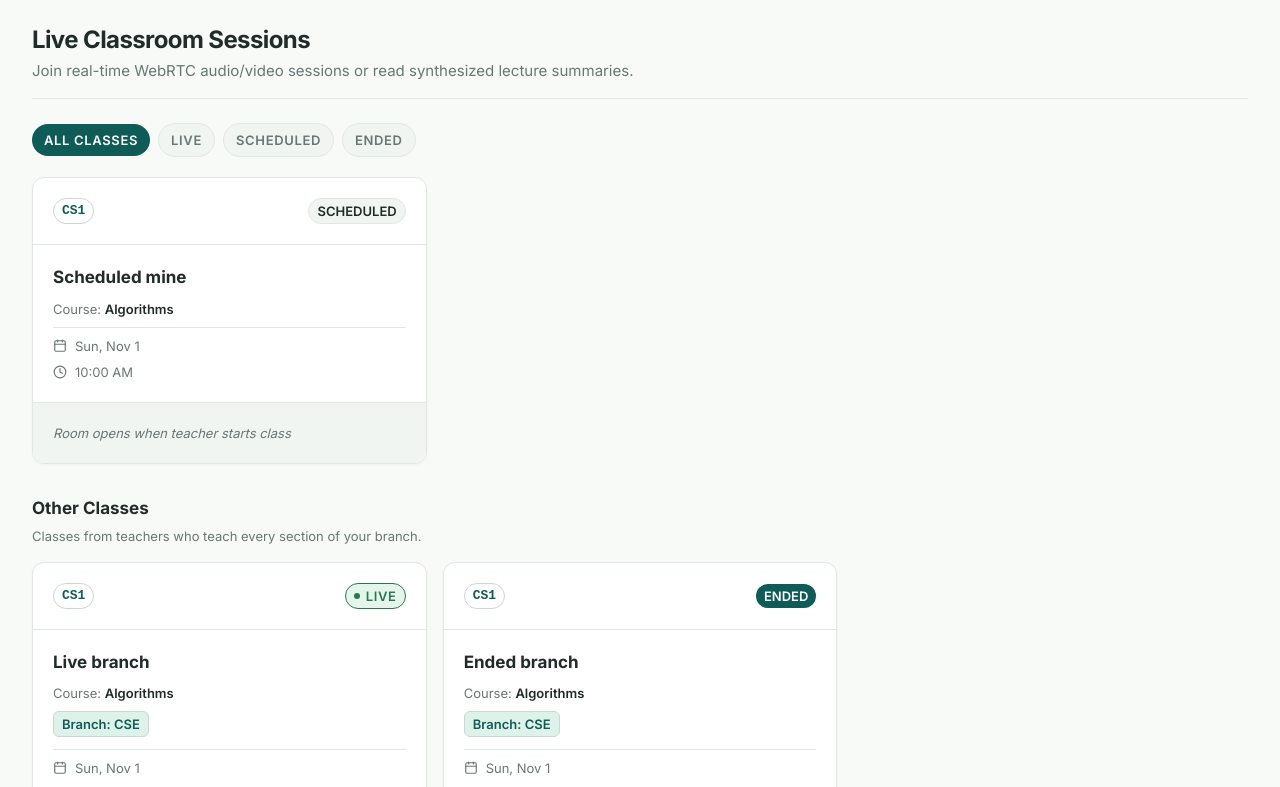
it: student classes: Other Classes › status filters apply to both areas
Expected: the heading "Live branch" is shown, [53,652,150,672]
Click the button "live" at point(187, 140), box [158,123,215,157]
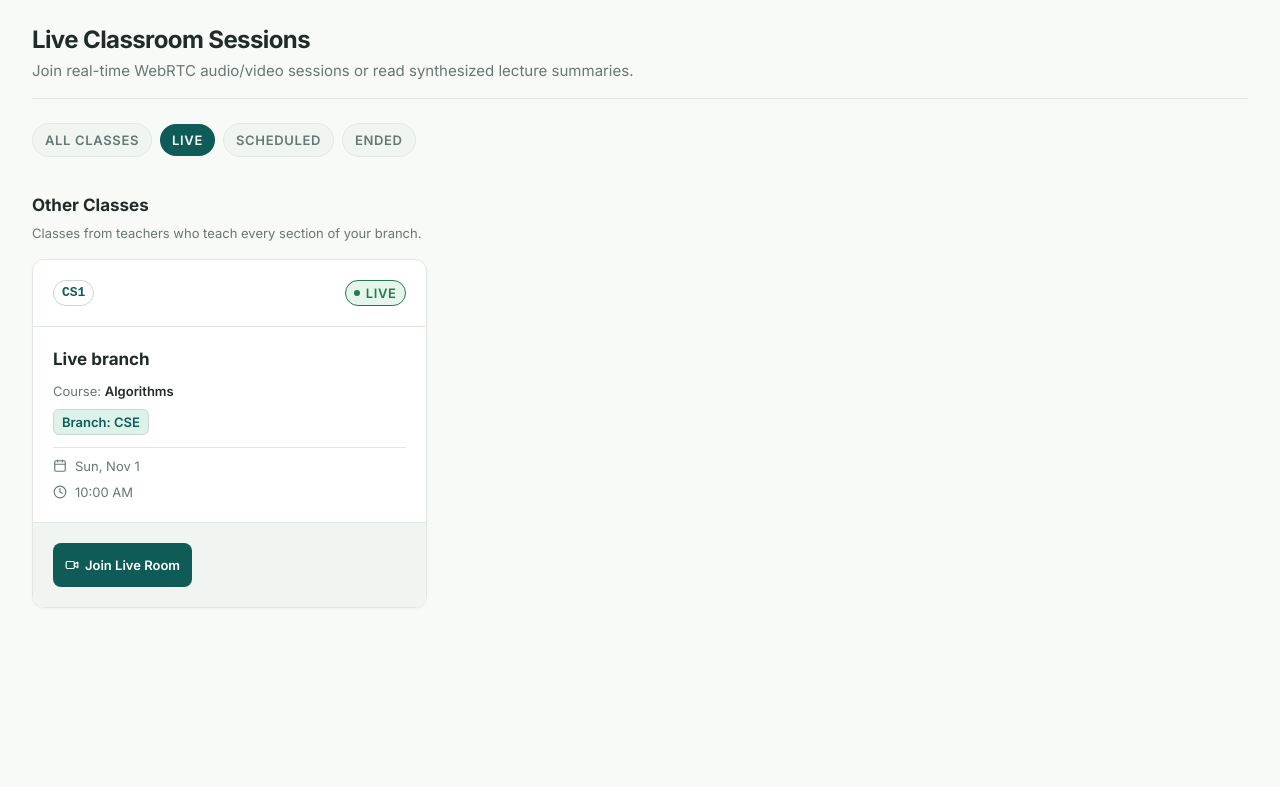
Expected: the heading "Live branch" is shown, [53,349,150,369]
Expected: the heading "Ended branch" is gone
Expected: the heading "Scheduled mine" is gone
